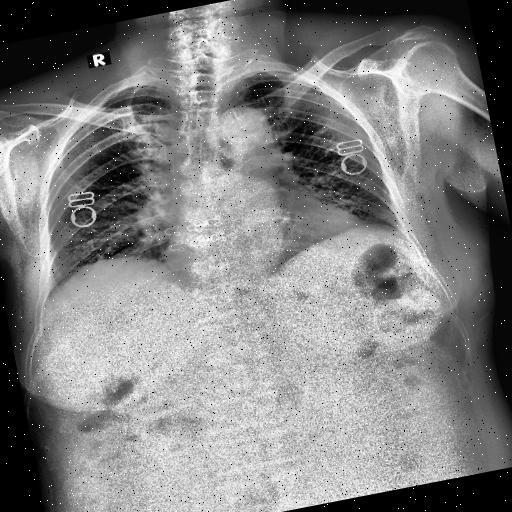0- Aortic enlargement: (193, 98, 275, 168), (214, 101, 278, 171), (212, 100, 274, 152)
10- Pleural effusion: (390, 213, 416, 252)
11- Pleural thickening: (390, 213, 416, 252)
3- Cardiomegaly: (157, 194, 376, 296), (150, 192, 376, 288), (160, 202, 374, 290)
